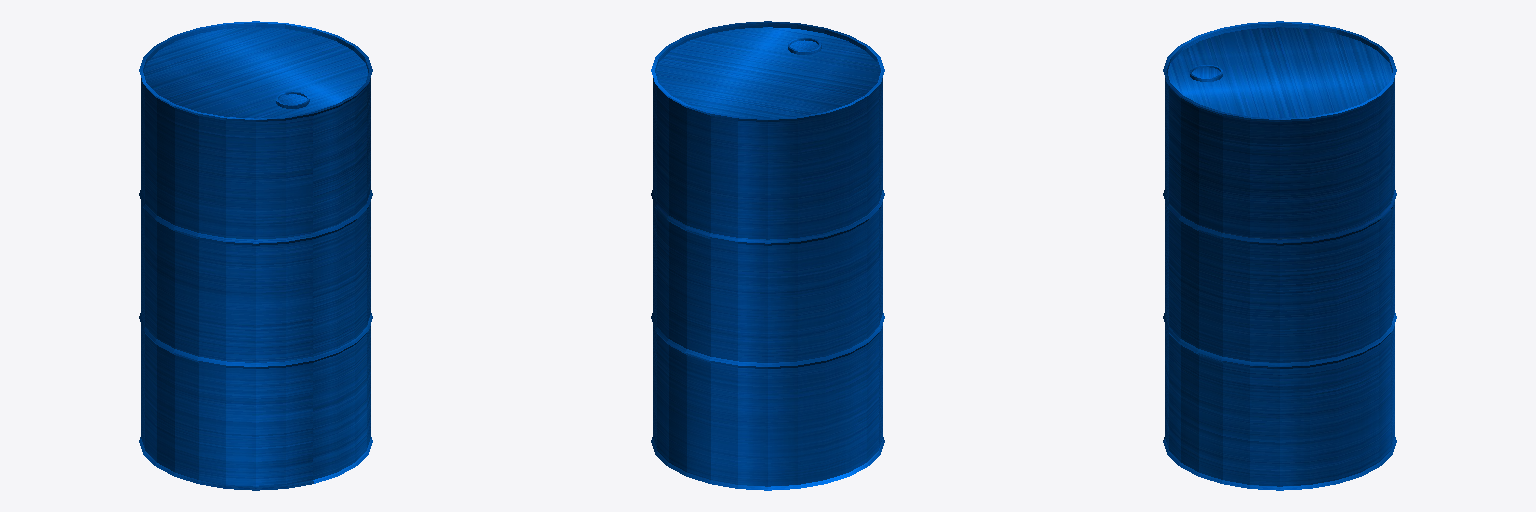
3 renders of one model, left to right at view 1: azimuth 30°, elevation 25°; view 2: azimuth 150°, elevation 25°; view 3: azimuth 270°, elevation 25°, orthographic.
Visible parts, largest first — view 1: Circle_Circle.001; view 2: Circle_Circle.001; view 3: Circle_Circle.001.
Boxes of the visible parts, <box> form: Circle_Circle.001: <box>139,21,372,490</box>; Circle_Circle.001: <box>651,21,884,490</box>; Circle_Circle.001: <box>1163,21,1396,490</box>.
Size of the model in its own units: 0.8882 by 1.55 by 0.8882.
Materials: 1 (1 with a texture image).